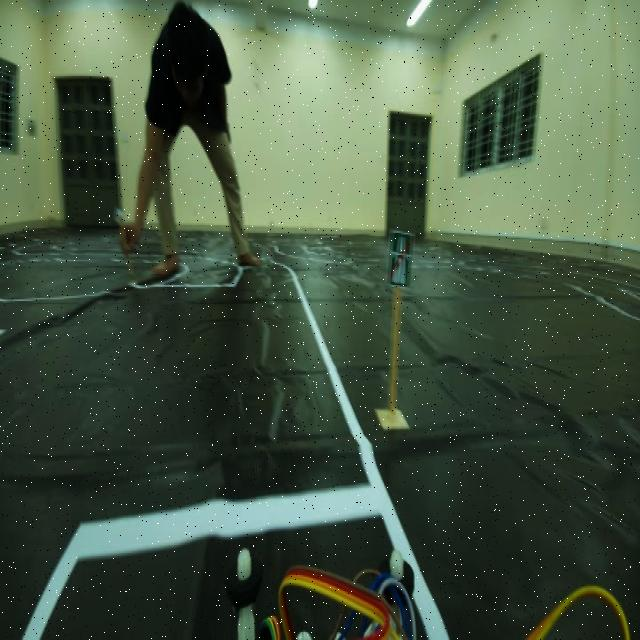highway_exit: (382, 224, 417, 296)
